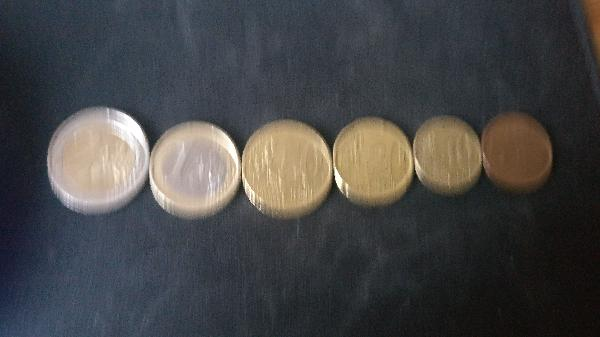Fifty Cent: (240, 120, 334, 221)
Five Cent: (482, 113, 553, 194)
One Euro: (150, 120, 242, 216)
Ten Cent: (413, 113, 484, 197)
Twenty Cent: (330, 119, 414, 207)
Two Euro: (44, 108, 150, 219)
